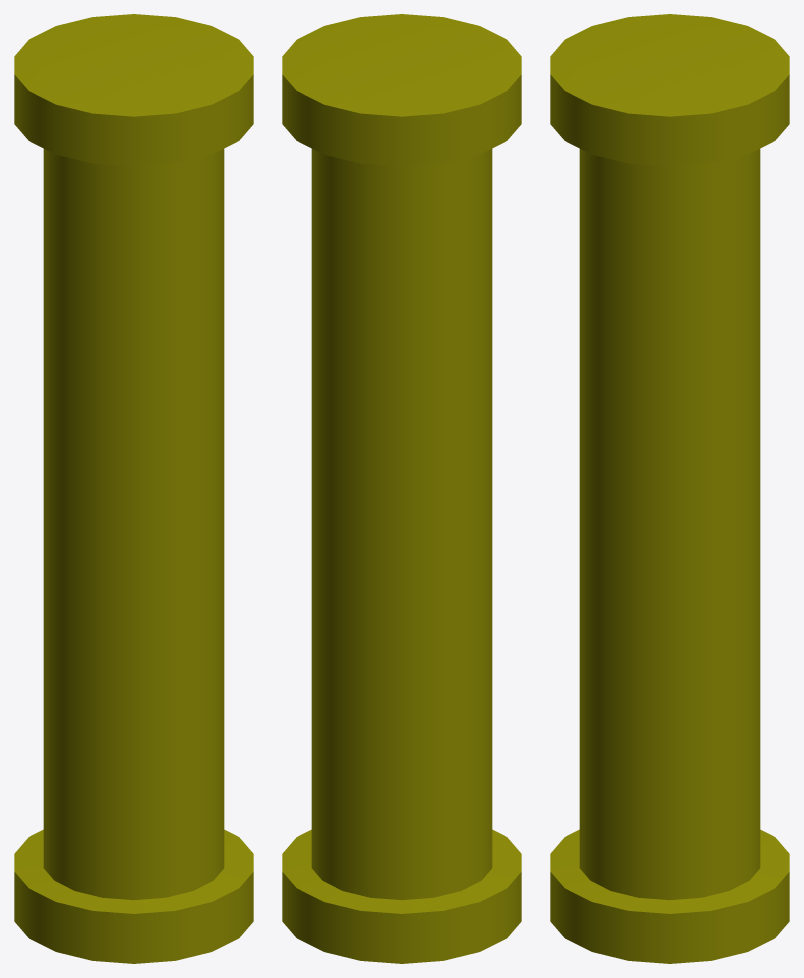
File: Pipe Puzzle_P2 Pipe Modular_01.FBX
3 renders of one model, left to right at view 1: azimuth 30°, elevation 25°; view 2: azimuth 150°, elevation 25°; view 3: azimuth 270°, elevation 25°, orthographic.
Visible parts, largest first — view 1: pipe modular 01; view 2: pipe modular 01; view 3: pipe modular 01.
Part boxes in pixels (x1,y1,x2,y2): pipe modular 01: (14, 14, 253, 963); pipe modular 01: (282, 14, 521, 963); pipe modular 01: (550, 14, 789, 963).
Bounding box in the file's own units: 6.22 × 24.01 × 6.13.
